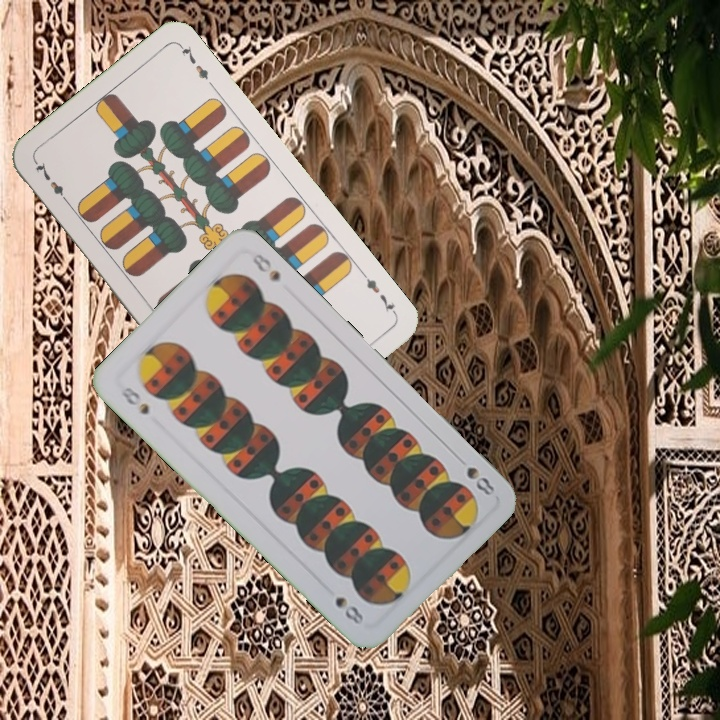E7: (30, 157, 72, 207), (357, 268, 399, 318)
S8: (462, 462, 497, 499), (116, 383, 152, 418)
